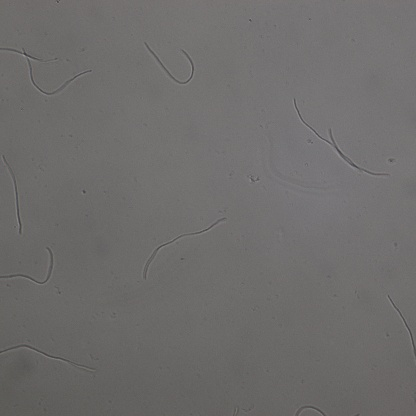Sensitive: (293, 98, 388, 177), (142, 217, 225, 276), (1, 44, 92, 96), (1, 343, 95, 372), (144, 42, 195, 85), (1, 247, 55, 285), (388, 295, 416, 358), (2, 154, 23, 233)
